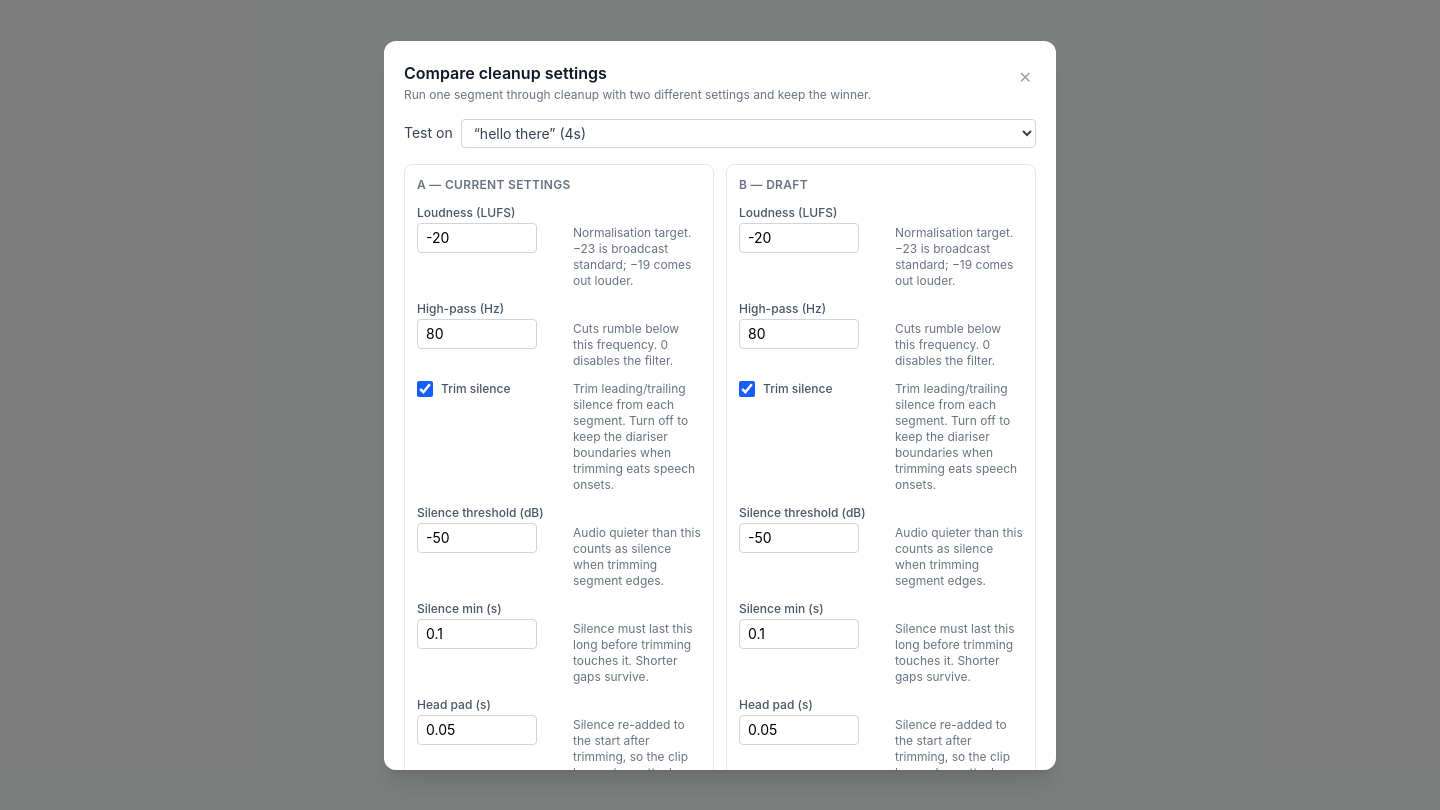
Test case: CompareSettingsModal › submits one tuning preview per column with each column’s params
Expected: the dropdown is enabled, [461,118,1036,148]
// Draft column tweak: highpass 80 → 120.
Replace the text in the number field labelled "High-pass (Hz)" below "B — draft" with "120" at (799, 334), box [739,318,859,348]
(page scrolled)
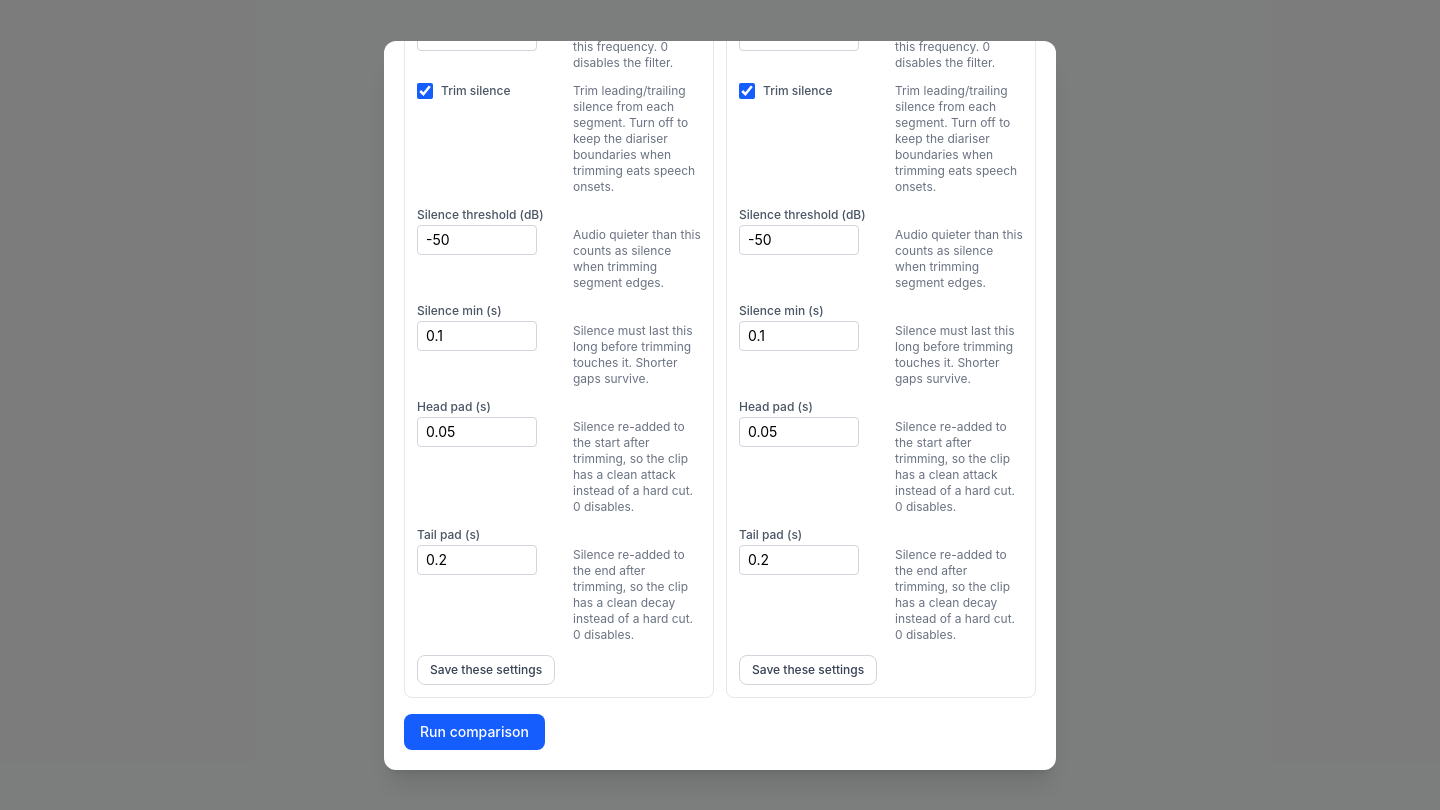
Click the button "Run comparison" at (474, 732), box [404,714,545,750]
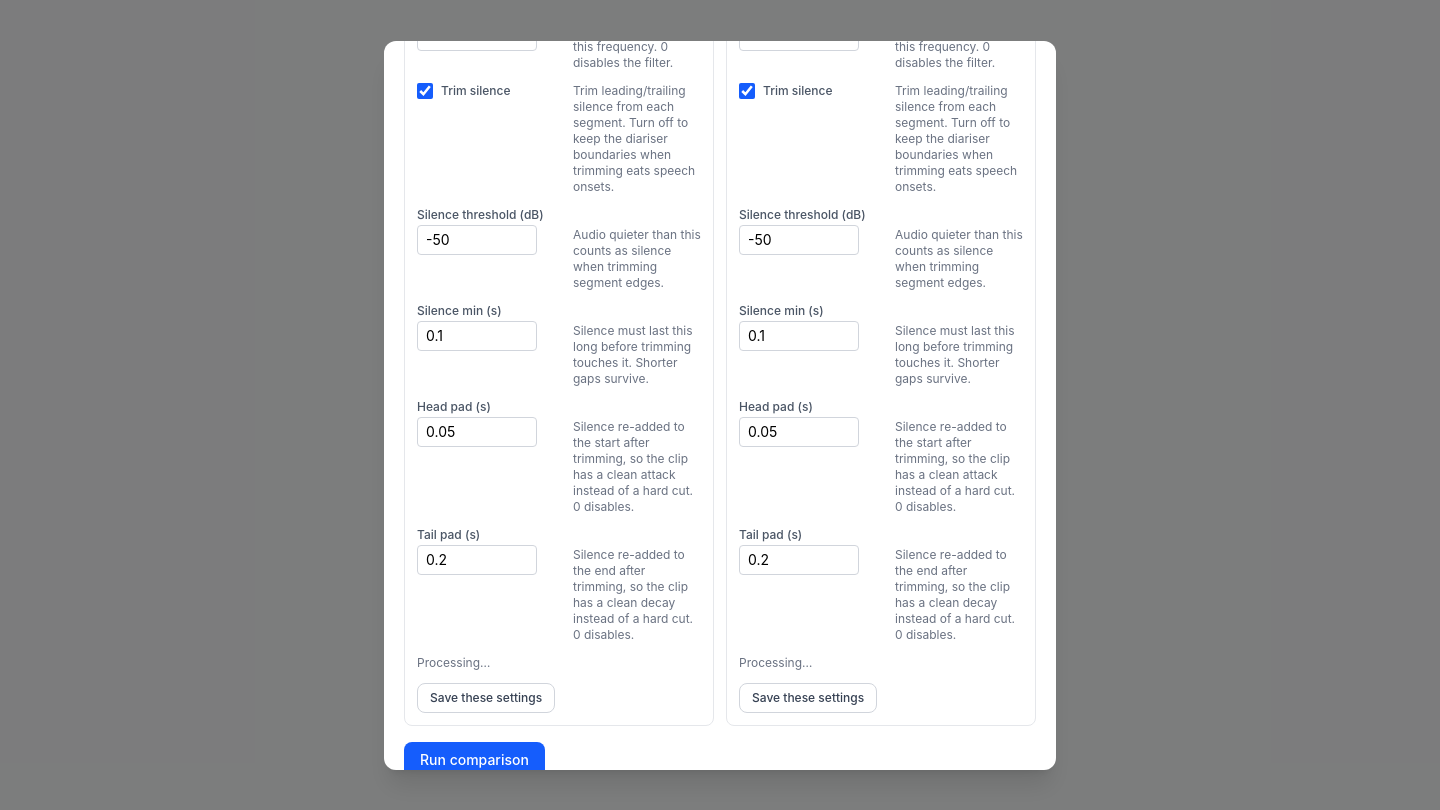
Now the text "Processing…" is shown 2 times, box [417,654,490,670]; [739,654,812,670]
